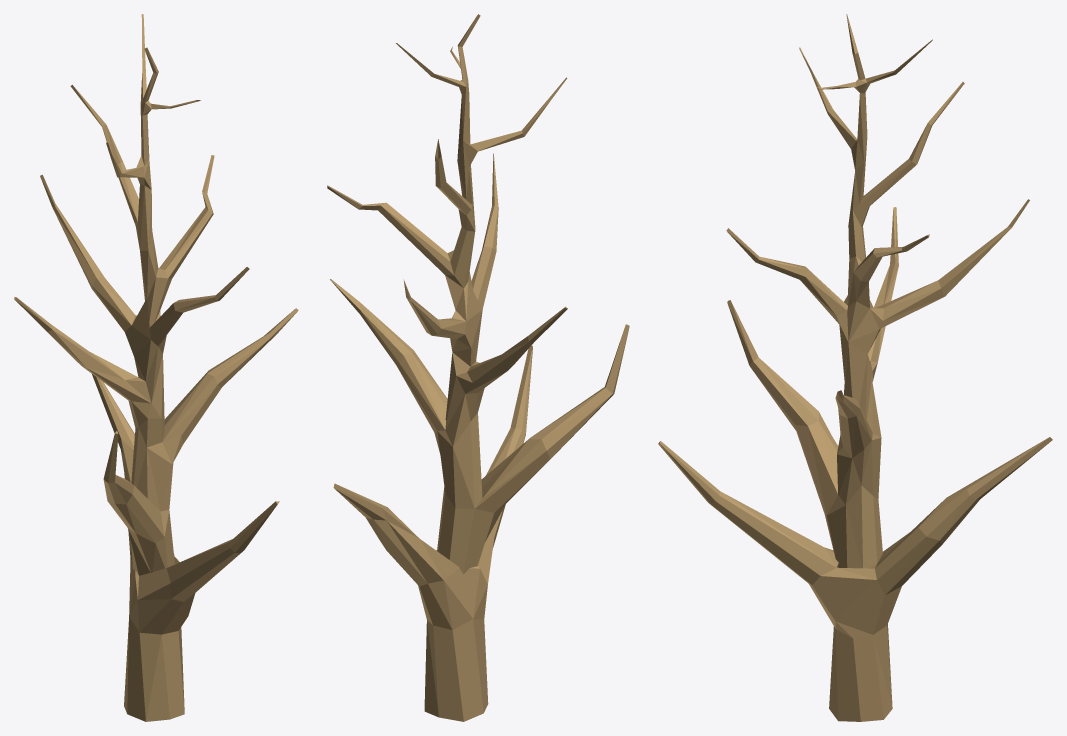
The model's file is Deadtree.fbx.
3 renders of one model, left to right at view 1: azimuth 30°, elevation 25°; view 2: azimuth 150°, elevation 25°; view 3: azimuth 270°, elevation 25°, orthographic. The views are drawn at different scales.
Parts seen in each view (by area): view 1: trunk; view 2: trunk; view 3: trunk.
Part boxes in pixels (bbox=[...]): trunk: bbox=[14, 14, 298, 721]; trunk: bbox=[327, 14, 629, 721]; trunk: bbox=[658, 14, 1052, 721].
Bounding box in the file's own units: 321 × 802 × 416.
